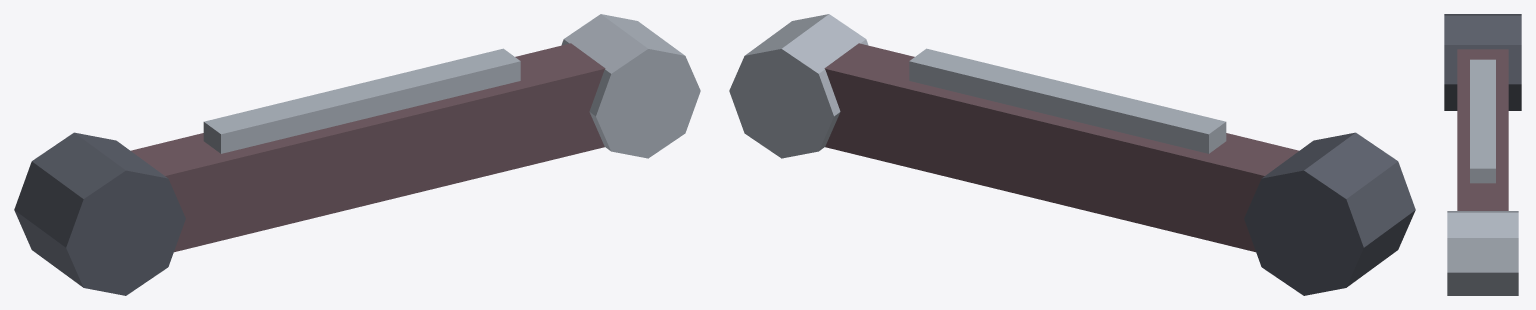
Rendered from aranha_femur.glb.
3 renders of one model, left to right at view 1: azimuth 30°, elevation 25°; view 2: azimuth 150°, elevation 25°; view 3: azimuth 270°, elevation 25°, orthographic. The views are drawn at different scales.
Visible parts, largest first — view 1: aranha_femur; view 2: aranha_femur; view 3: aranha_femur.
Part boxes in pixels (bbox=[...]): aranha_femur: bbox=[14, 14, 700, 295]; aranha_femur: bbox=[729, 14, 1415, 295]; aranha_femur: bbox=[1444, 14, 1521, 295].
Size of the model in its own units: 0.85 by 0.16 by 0.12.
